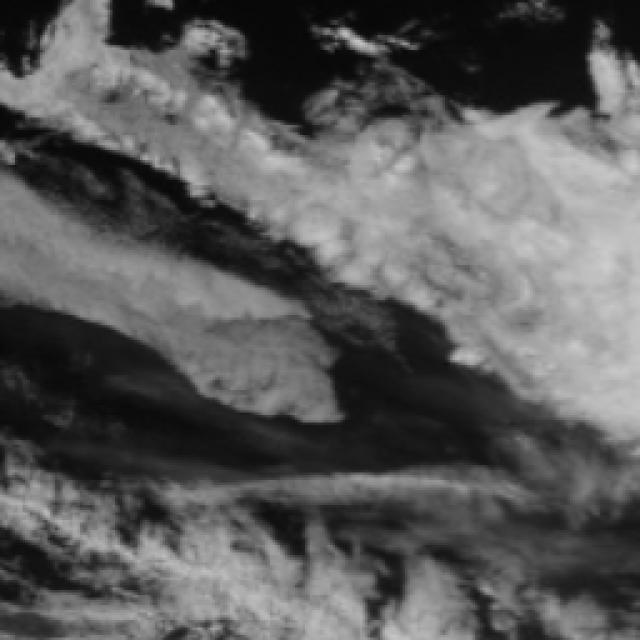CB: (494, 161, 640, 360)
